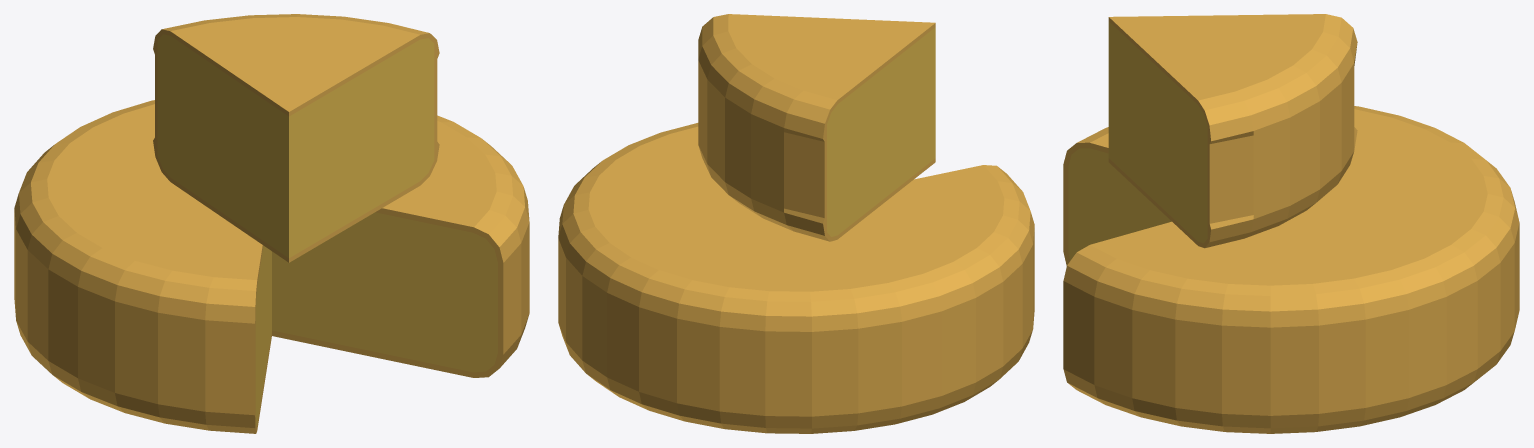
The model's file is cheese.glb.
3 views of the same model, side by side, from view 1: azimuth 30°, elevation 25°; view 2: azimuth 150°, elevation 25°; view 3: azimuth 270°, elevation 25° (orthographic). The views are drawn at different scales.
Parts seen in each view (by area): view 1: cheese; view 2: cheese; view 3: cheese.
Part boxes in pixels (box(x1,y1,x2,y2)): cheese: box(14, 14, 529, 433); cheese: box(558, 14, 1034, 433); cheese: box(1063, 14, 1519, 433).
Size of the model in its own units: 2 by 1.29 by 1.83.
